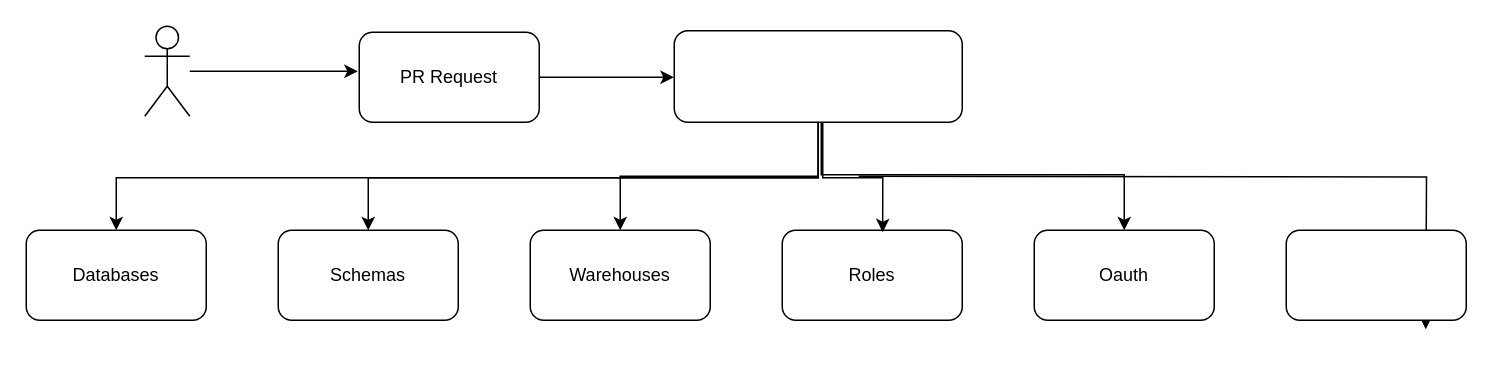
The diagram is 1493 pixels wide and 368 high, and some of its shapes have lost their labels. The shapes that lost their labels are listed below. From the top down, each one's box as (x1, y1, x2, y2) in pixels, then its label:
(143, 25, 190, 116): Actor
(673, 29, 962, 122): AWS Codebuild/Codepipeline
(1285, 229, 1466, 320): Storage Integrations
